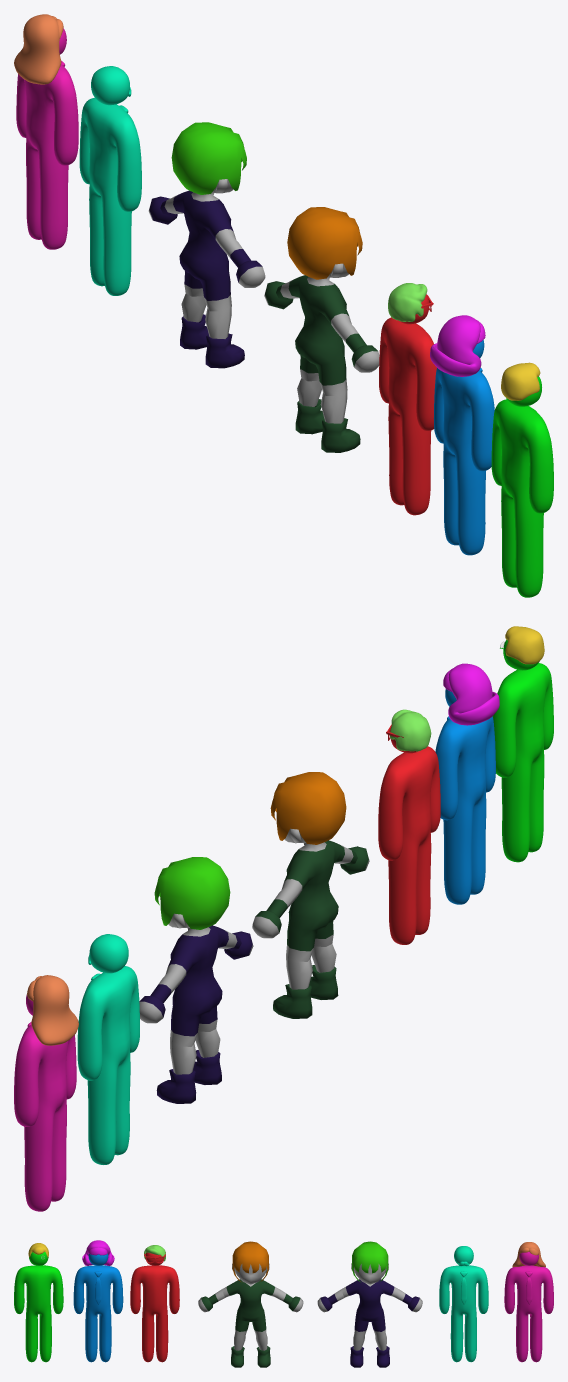
The model's file is Accessories.fbx.
The picture shows the model from 3 angles, top to bottom: view 1: azimuth 30°, elevation 25°; view 2: azimuth 150°, elevation 25°; view 3: azimuth 270°, elevation 25°; orthographic projection. The views are drawn at different scales.
Parts seen in each view (by area): view 1: main, main.001, Guy.002, Guy.005, Guy.001, Guy.004, Guy.003; view 2: main.001, main, Guy.002, Guy.005, Guy.003, Guy.004, Guy.001; view 3: main, main.001, Guy.002, Guy.005, Guy.001, Guy.003, Guy.004.
Part boxes in pixels (<box>): main: <box>148,122,265,368</box>; main.001: <box>264,207,379,452</box>; Guy.002: <box>430,315,494,555</box>; Guy.005: <box>14,14,78,249</box>; Guy.001: <box>491,362,553,597</box>; Guy.004: <box>79,66,141,295</box>; Guy.003: <box>379,283,436,515</box>; main.001: <box>252,772,369,1018</box>; main: <box>139,857,253,1103</box>; Guy.002: <box>435,663,499,904</box>; Guy.005: <box>14,975,78,1211</box>; Guy.003: <box>378,709,440,944</box>; Guy.004: <box>77,934,139,1164</box>; Guy.001: <box>492,626,553,862</box>; main: <box>317,1241,422,1367</box>; main.001: <box>198,1241,303,1367</box>; Guy.002: <box>73,1240,123,1362</box>; Guy.005: <box>504,1242,553,1362</box>; Guy.001: <box>14,1243,63,1362</box>; Guy.003: <box>130,1245,179,1362</box>; Guy.004: <box>439,1246,488,1362</box>.
Bounding box in the file's own units: 25.54 × 1.94 × 6.23.
